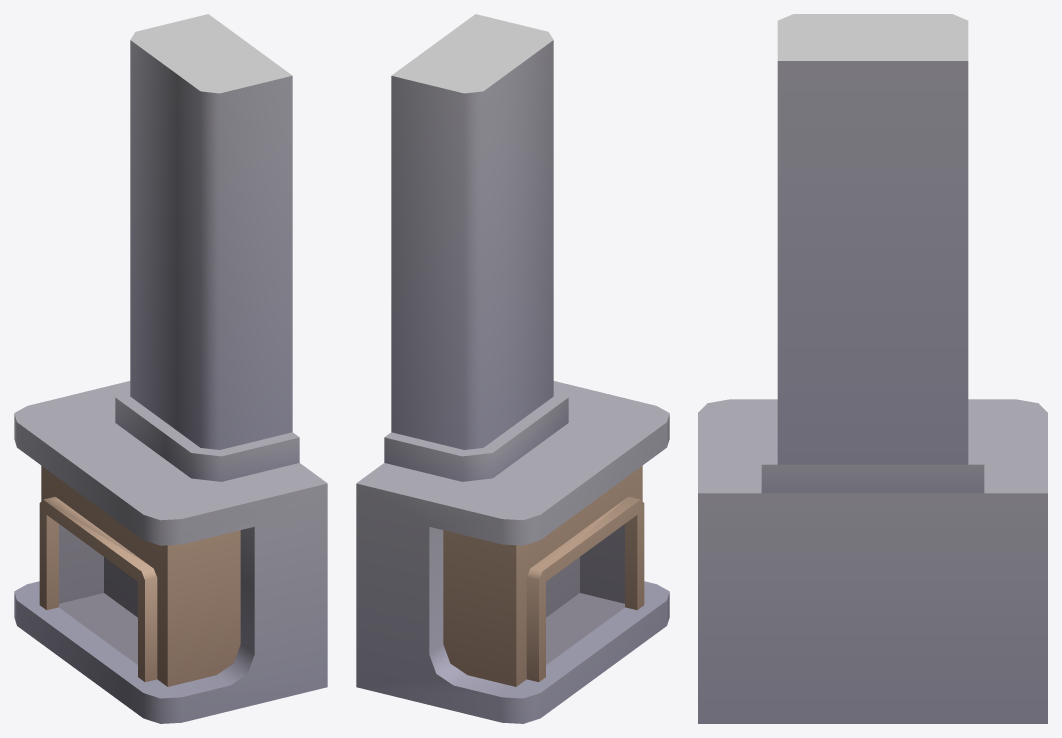
File: fireplace-classic.glb
The picture shows the model from 3 angles, left to right: view 1: azimuth 30°, elevation 25°; view 2: azimuth 150°, elevation 25°; view 3: azimuth 270°, elevation 25°; orthographic projection. The views are drawn at different scales.
Visible parts, largest first — view 1: fireplace-classic; view 2: fireplace-classic; view 3: fireplace-classic.
Boxes of the visible parts, box(x1,y1,x2,y2) form: fireplace-classic: box(14, 14, 327, 723); fireplace-classic: box(356, 14, 669, 723); fireplace-classic: box(698, 14, 1047, 723).
Bounding box in the file's own units: 0.7 × 2.3 × 1.1.
